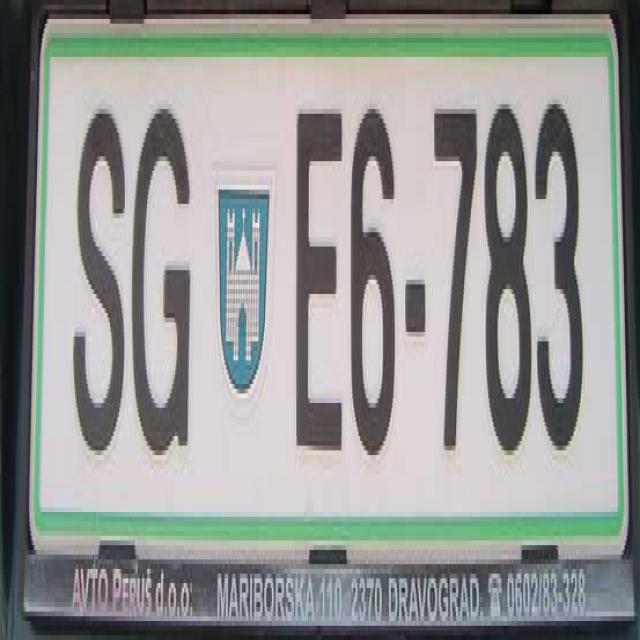Autre: (31, 8, 626, 586)
